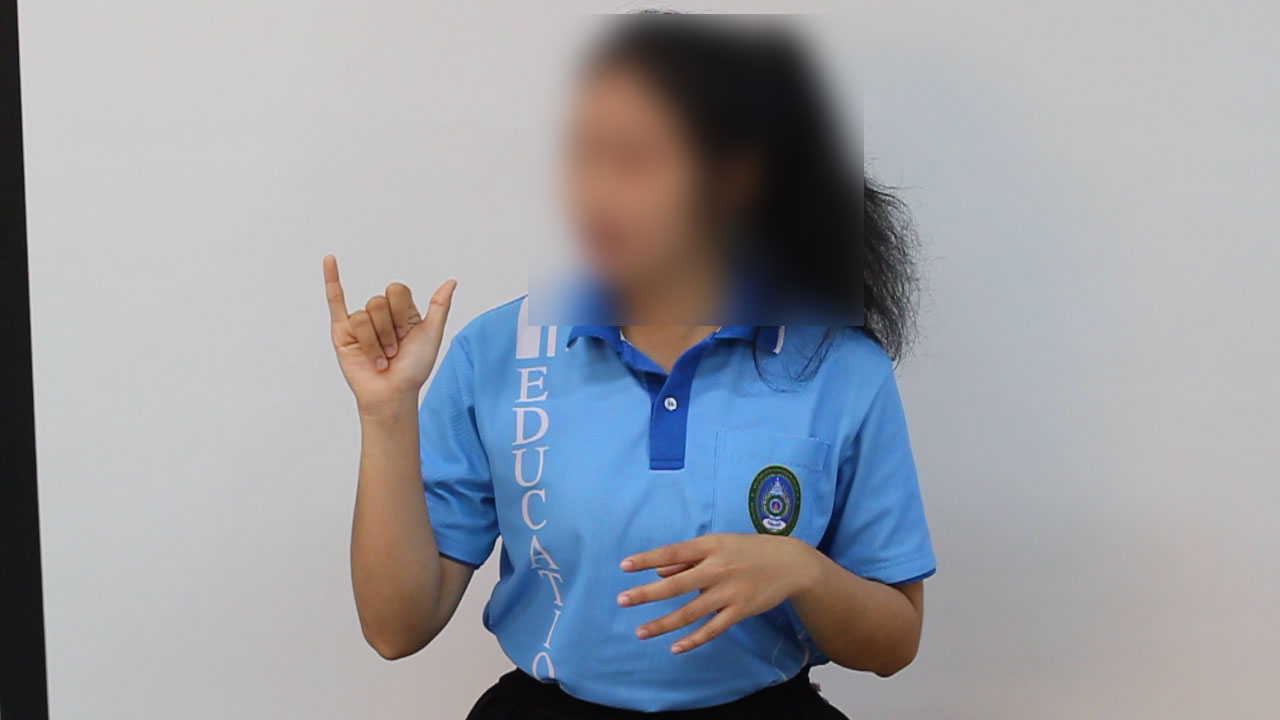yor: (302, 245, 472, 409)
